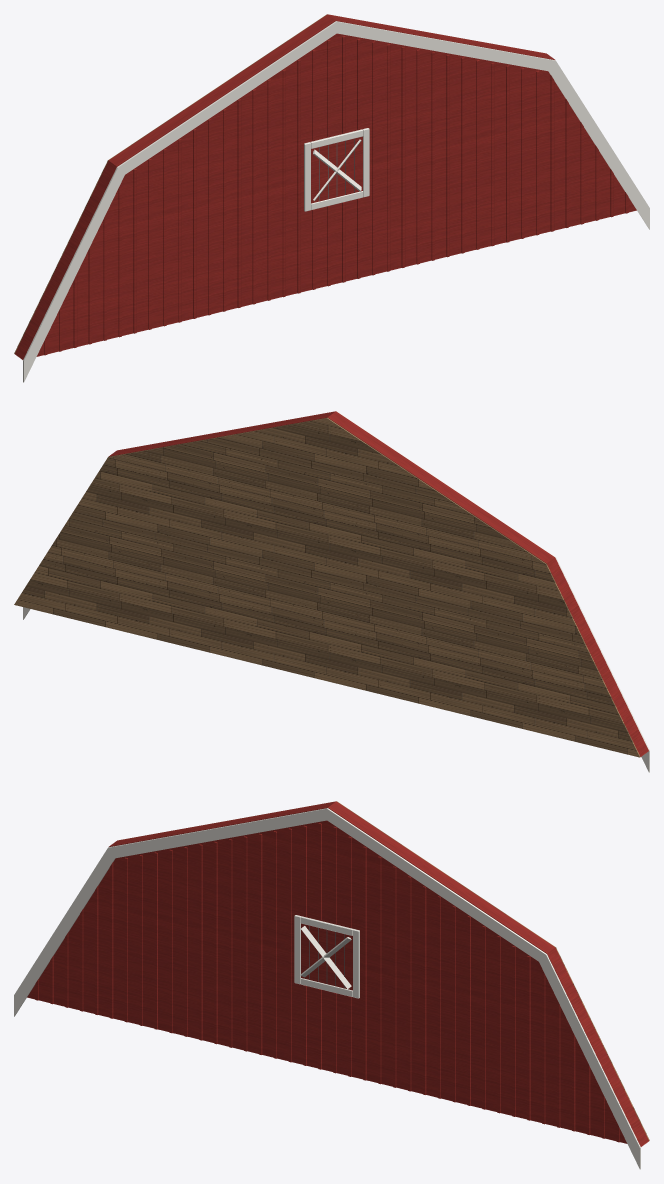
The model's file is barn_gable_back.glb.
3 renders of one model, top to bottom at view 1: azimuth 30°, elevation 25°; view 2: azimuth 150°, elevation 25°; view 3: azimuth 330°, elevation 25°, orthographic.
Parts seen in each view (by area): view 1: barn_gable_back_barn, barn_gable_back_trim; view 2: barn_gable_back_planks, barn_gable_back_barn, barn_gable_back_trim; view 3: barn_gable_back_barn, barn_gable_back_trim.
Boxes of the visible parts, box(x1,y1,x2,y2) form: barn_gable_back_barn: box(15, 14, 636, 359); barn_gable_back_trim: box(23, 21, 649, 382); barn_gable_back_planks: box(14, 417, 640, 757); barn_gable_back_barn: box(108, 411, 648, 756); barn_gable_back_trim: box(23, 411, 649, 772); barn_gable_back_barn: box(27, 801, 648, 1146); barn_gable_back_trim: box(14, 808, 640, 1169).
Size of the model in its own units: 12 by 5.22 by 0.391.
4 materials, 2 textured.
